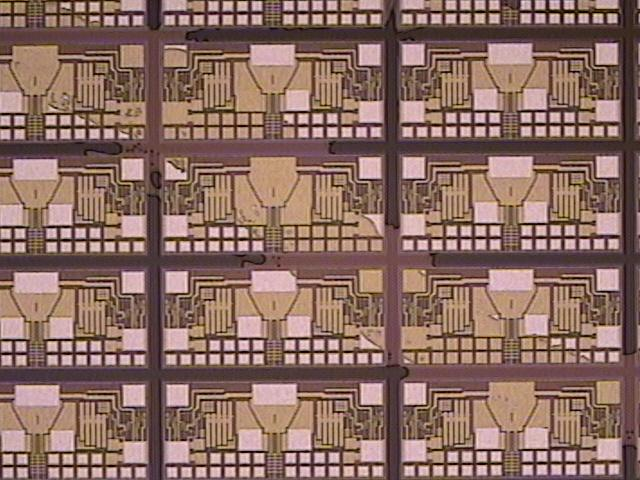COATING BAD: (1, 3, 640, 454)
